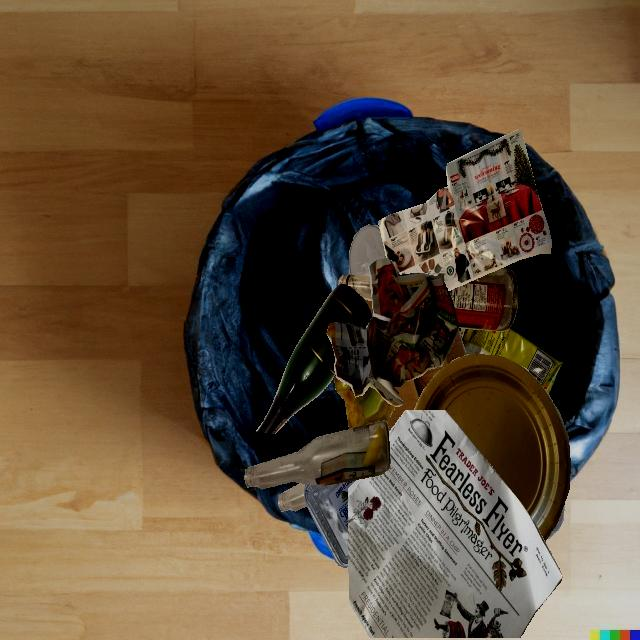biowaste: (334, 376, 394, 429)
cardboard: (386, 328, 466, 431)
glass: (256, 283, 372, 434), (244, 421, 390, 489), (448, 267, 517, 331), (349, 225, 386, 275), (278, 483, 307, 512)
paper: (348, 410, 563, 638), (414, 354, 571, 542), (378, 129, 552, 291), (326, 257, 458, 407)
plastic: (304, 479, 357, 568), (546, 503, 565, 539)
trash: (459, 327, 563, 395)
